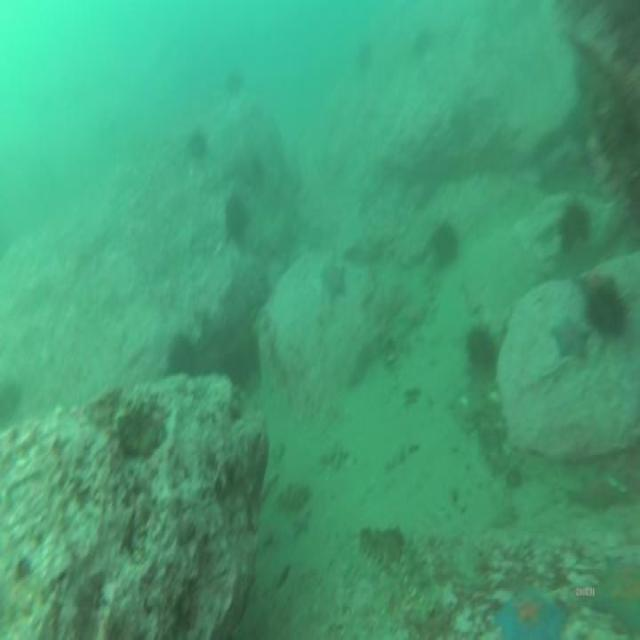echinus: (590, 296, 627, 335), (166, 335, 198, 376), (466, 325, 494, 362), (226, 198, 247, 237), (431, 228, 455, 262), (224, 69, 243, 95), (187, 131, 204, 158), (356, 42, 372, 70), (414, 32, 434, 52)
holothurian: (402, 544, 437, 612), (343, 541, 382, 583)
starfish: (594, 553, 640, 635), (499, 584, 561, 640), (578, 468, 620, 514), (558, 199, 590, 250), (553, 316, 587, 356), (324, 262, 348, 302), (577, 272, 615, 295), (291, 512, 309, 534)
